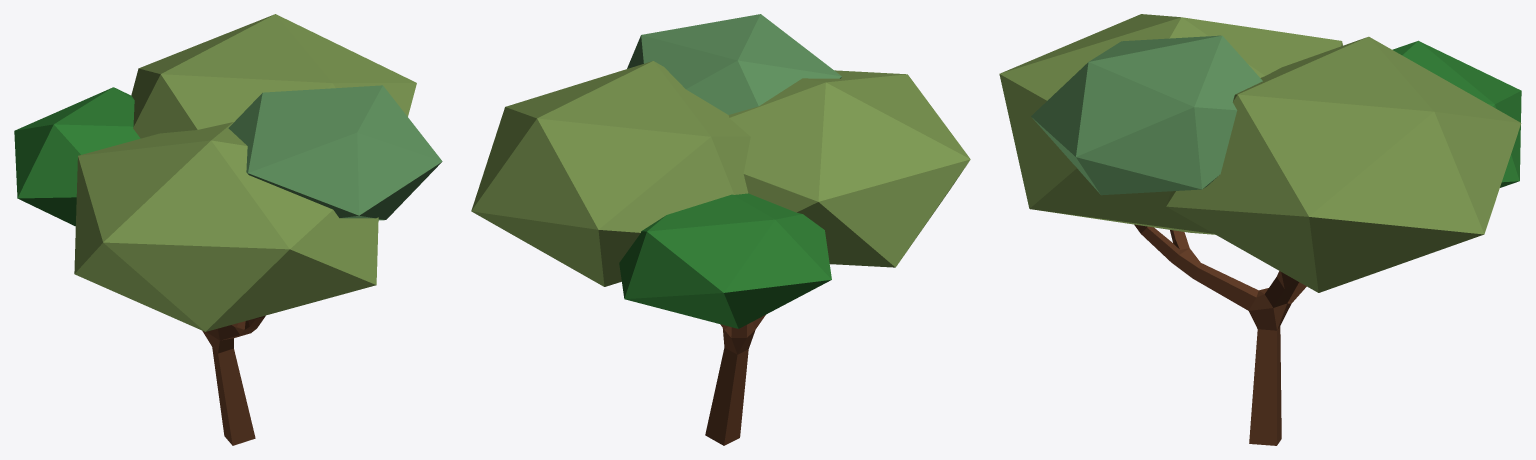
File: TreeRound2.fbx
3 renders of one model, left to right at view 1: azimuth 30°, elevation 25°; view 2: azimuth 150°, elevation 25°; view 3: azimuth 270°, elevation 25°, orthographic. The views are drawn at different scales.
Visible parts, largest first — view 1: Cube.037; view 2: Cube.037; view 3: Cube.037.
Boxes of the visible parts, bbox=[...] form: Cube.037: bbox=[14, 14, 442, 445]; Cube.037: bbox=[471, 14, 970, 445]; Cube.037: bbox=[999, 14, 1521, 445].
Size of the model in its own units: 170 by 151 by 174.
